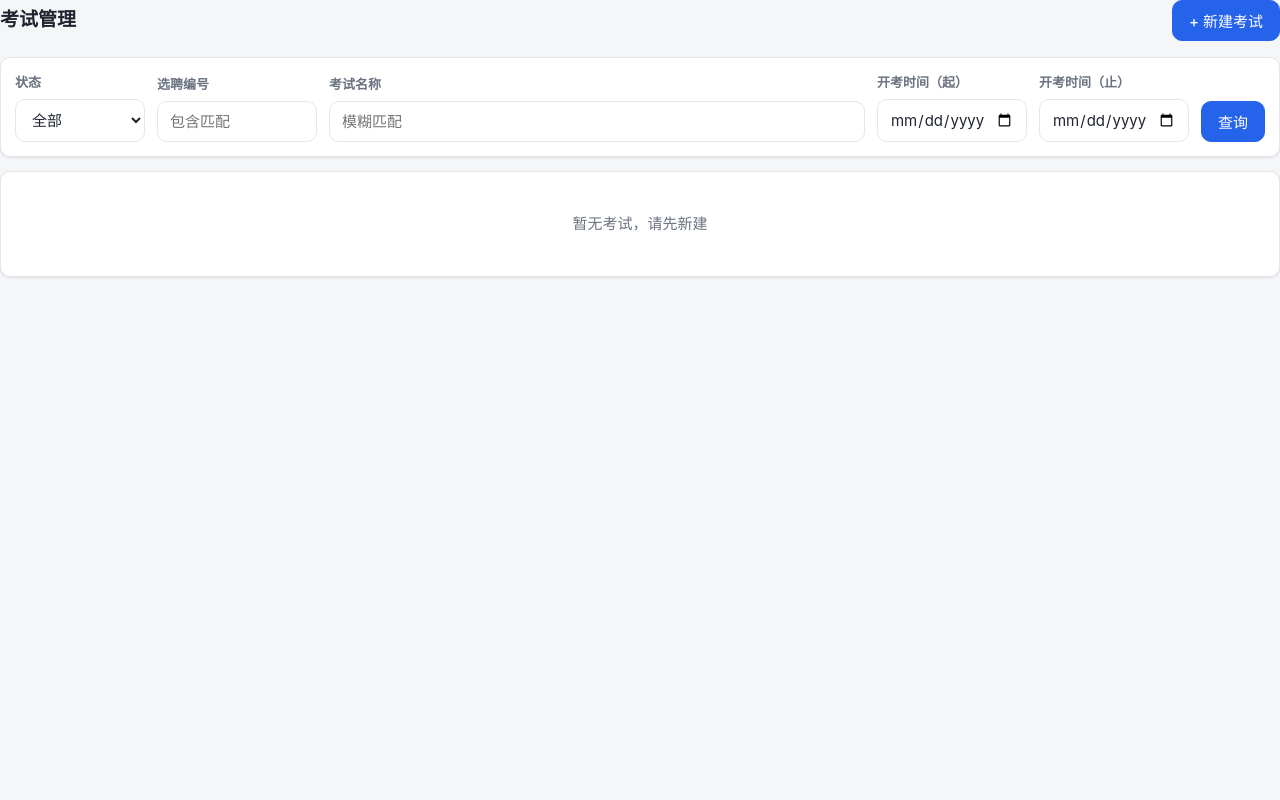
Test: 组卷规则标签封闭选项（CH-005） › 超量时保存被拦截，且不发起请求
Click the button "+ 新建考试".
click(1226, 20)  # box [1172,0,1279,41]
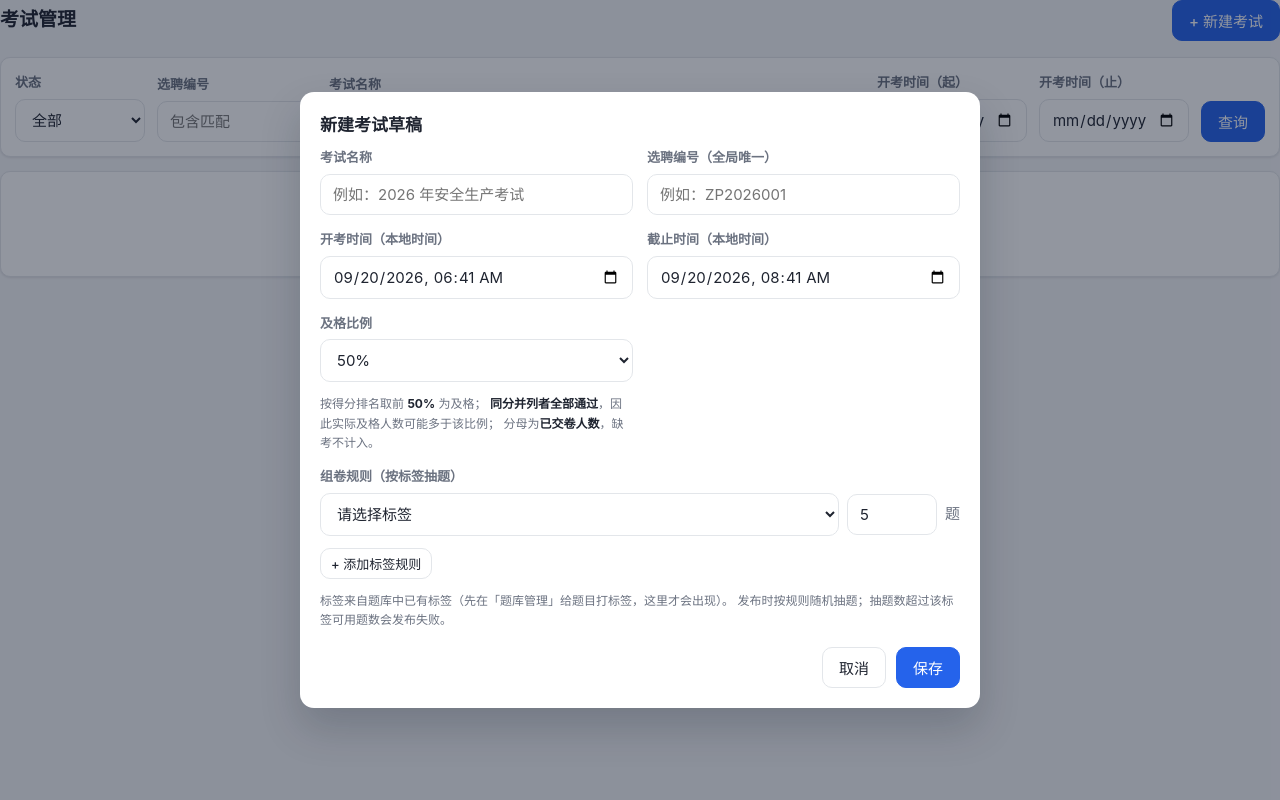
Type "测试考试" into the field with id "e-title".
click(476, 194); type("测试考试")  # box [320,174,633,215]
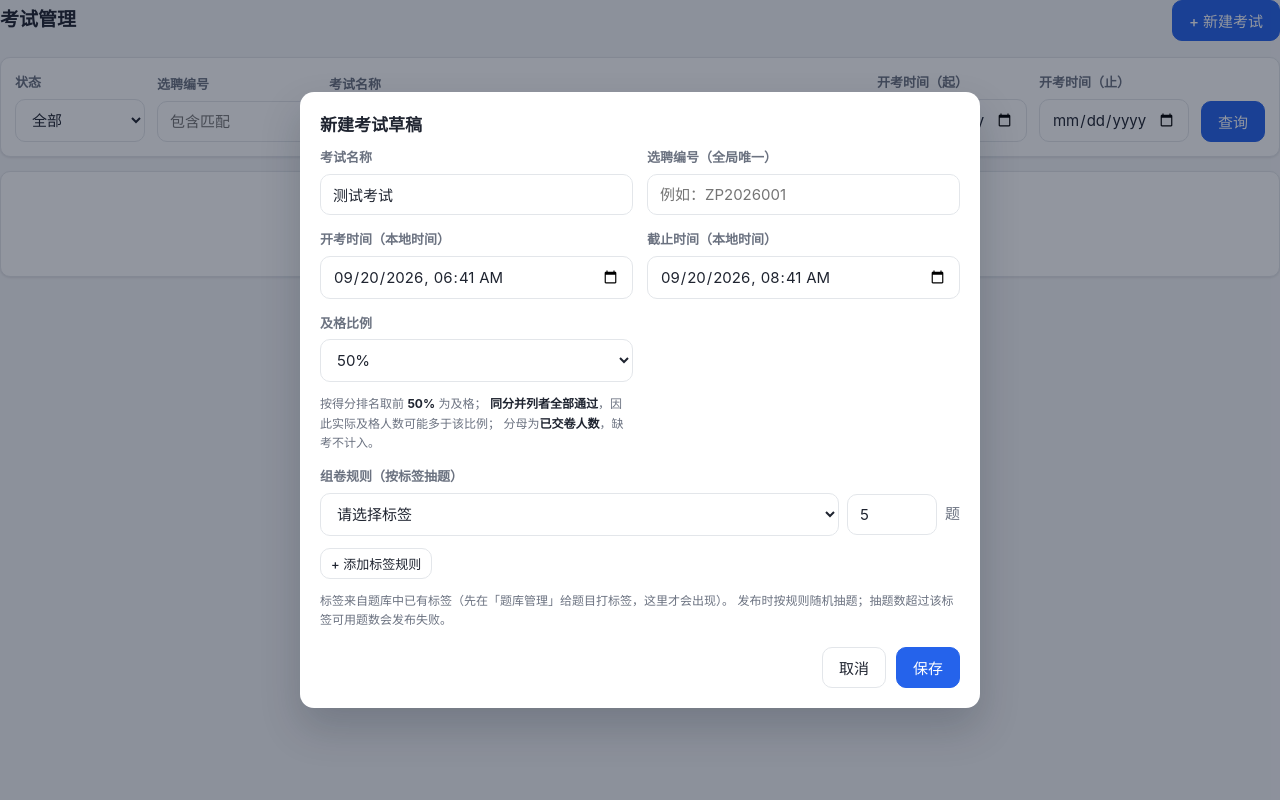
Type "ZP-TEST" into the field with id "e-no".
click(804, 194); type("ZP-TEST")  # box [647,174,960,215]
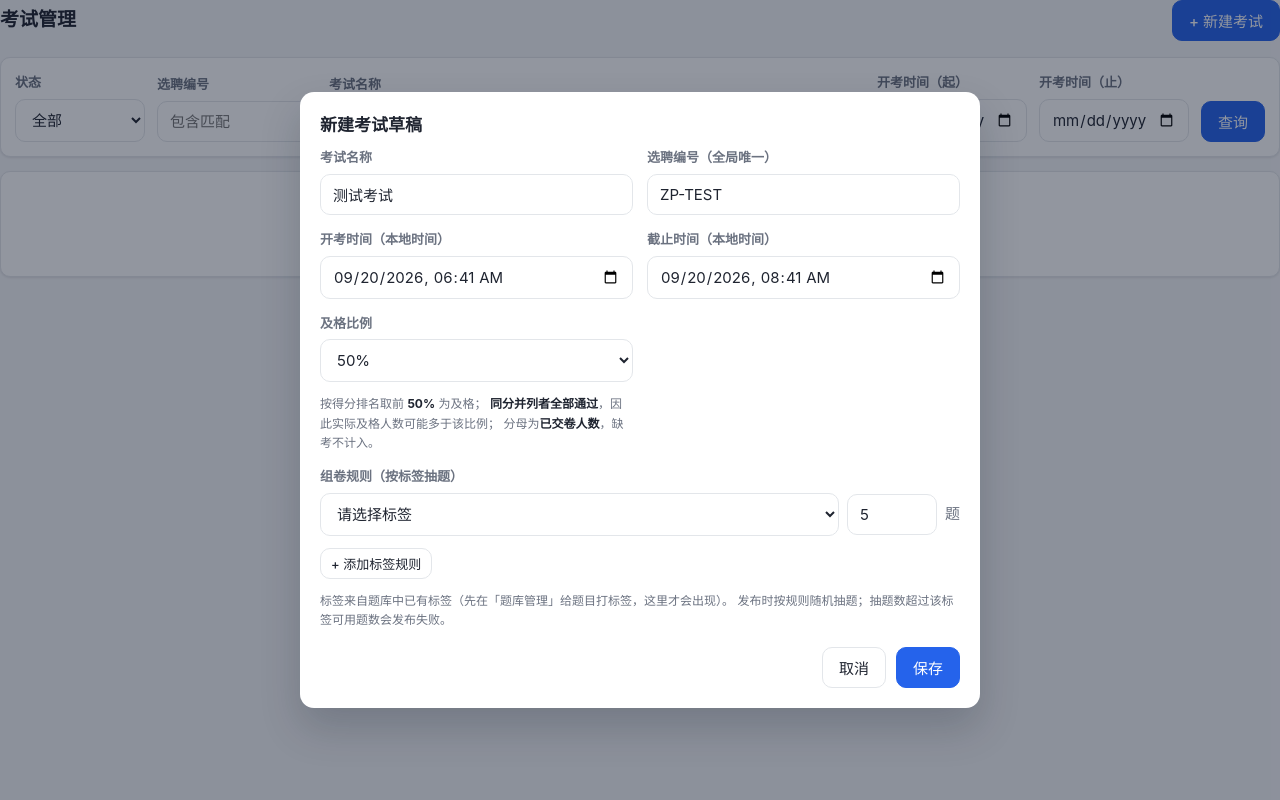
Select "安全生产（可用 3 题）" in the dropdown with class "rule-tag" at x=580, y=514, box [320,493,839,536]
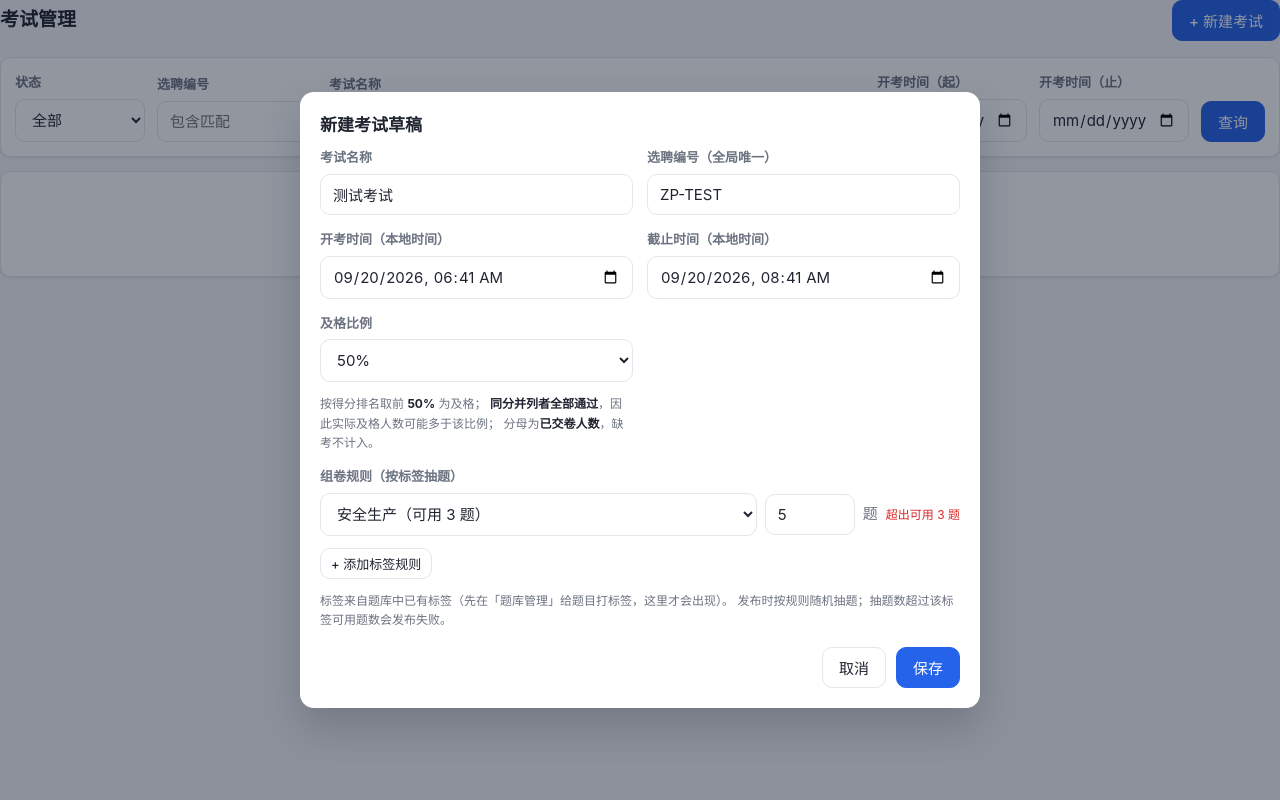
Replace the text in the number field with class "rule-count" with "99" at x=810, y=514, box [765,494,855,535]
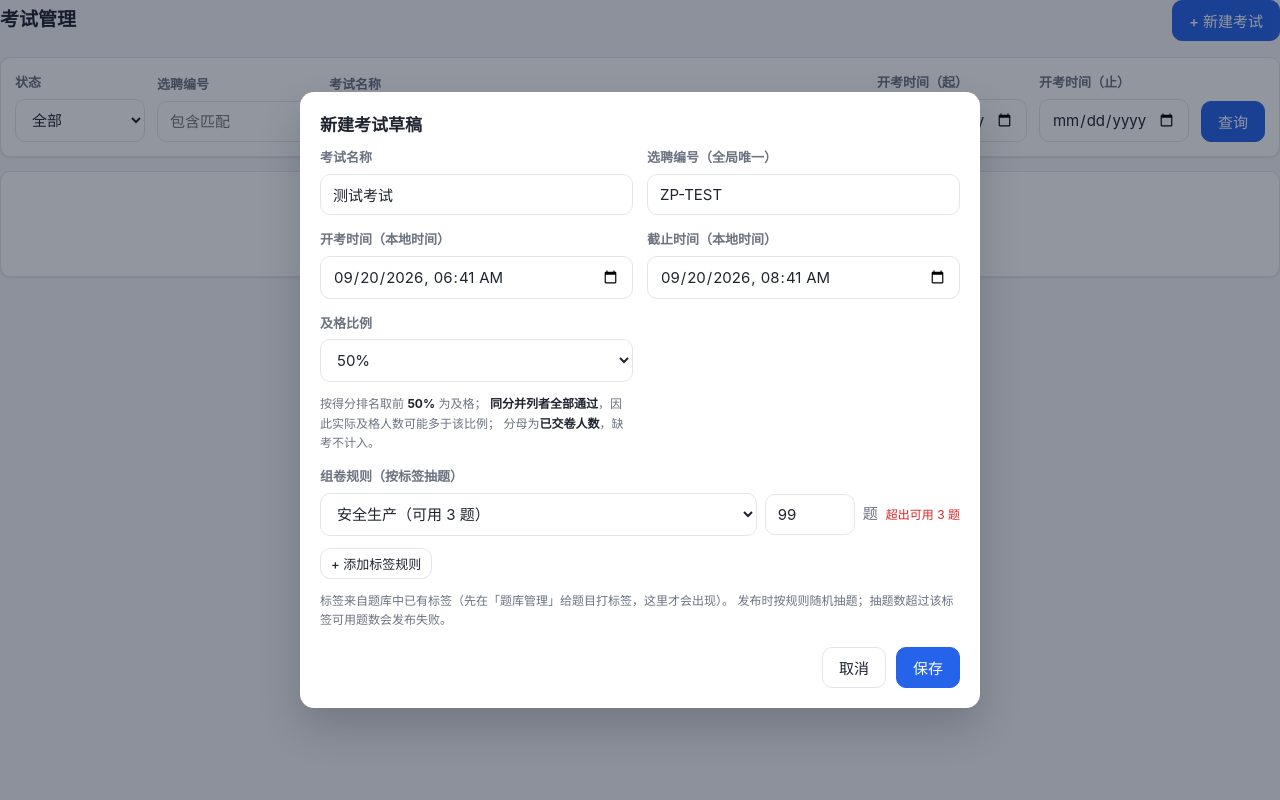
Click the button "保存".
click(928, 668)  # box [896,647,960,688]
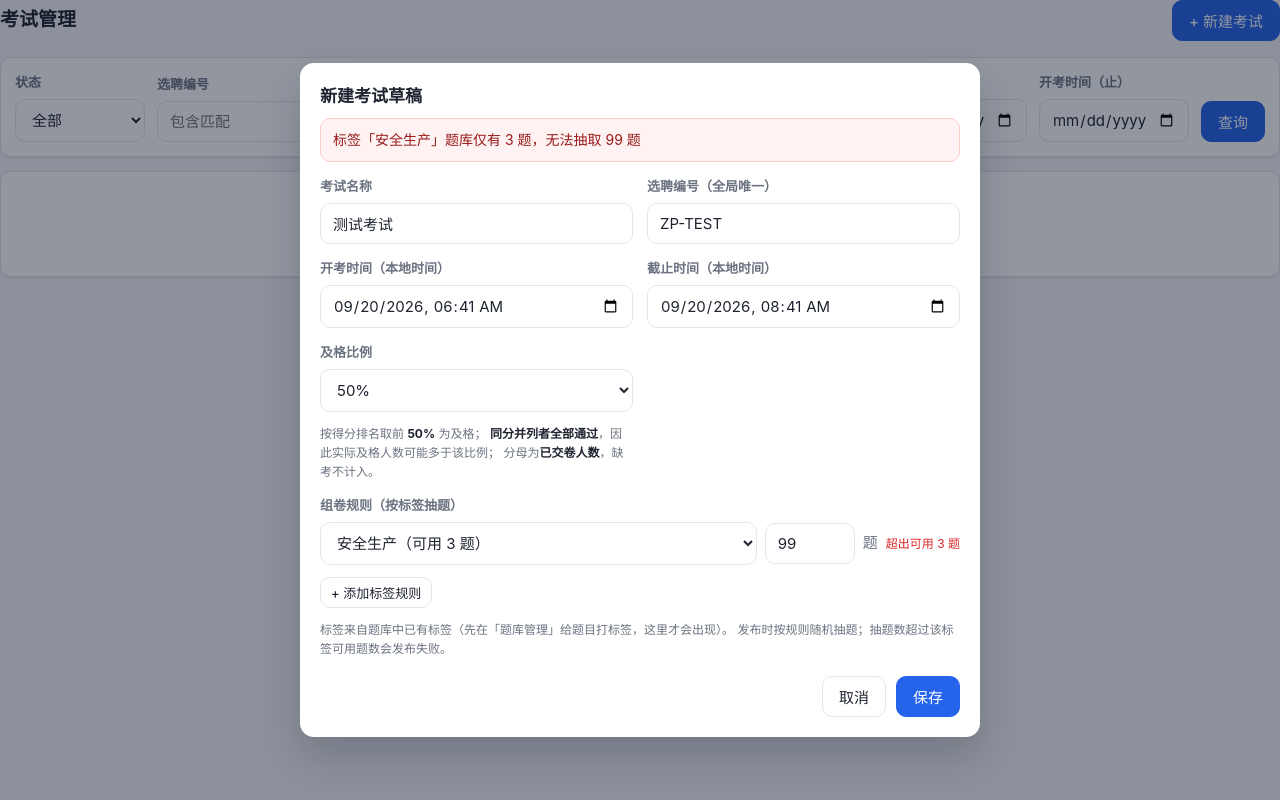
Expected: the element with class "modal" shows "无法抽取", [333,131,641,148]
